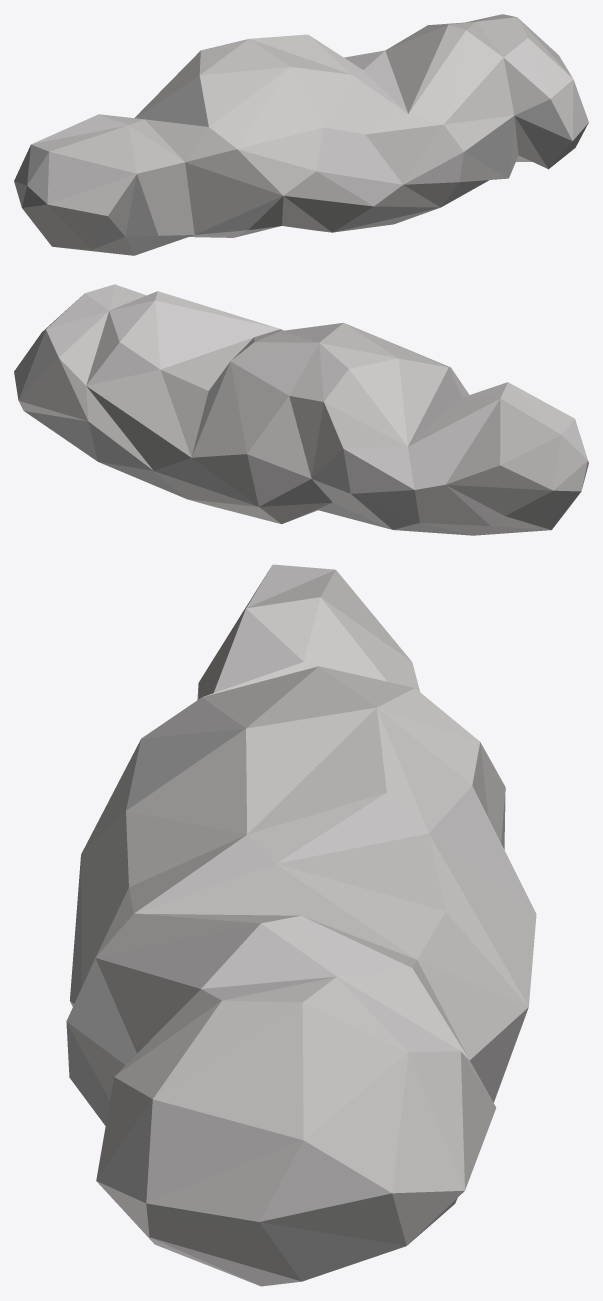
File: adventure_SM_Env_Cloud_01.gltf
3 views of the same model, one above another, from view 1: azimuth 30°, elevation 25°; view 2: azimuth 150°, elevation 25°; view 3: azimuth 270°, elevation 25° (orthographic). The views are drawn at different scales.
Parts seen in each view (by area): view 1: SM_Env_Cloud_01; view 2: SM_Env_Cloud_01; view 3: SM_Env_Cloud_01.
Part boxes in pixels (left/top/right/bottom): SM_Env_Cloud_01: left=14, top=14, right=588, bottom=255; SM_Env_Cloud_01: left=14, top=284, right=588, bottom=535; SM_Env_Cloud_01: left=66, top=564, right=536, bottom=1286.
Bounding box in the file's own units: 8.57 × 2.79 × 3.22.
1 material, 1 textured.
